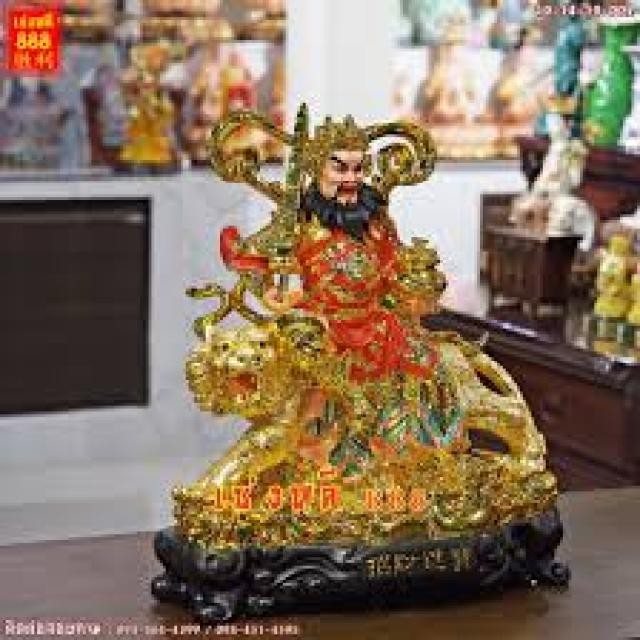Xuan wu: (206, 95, 445, 482)
